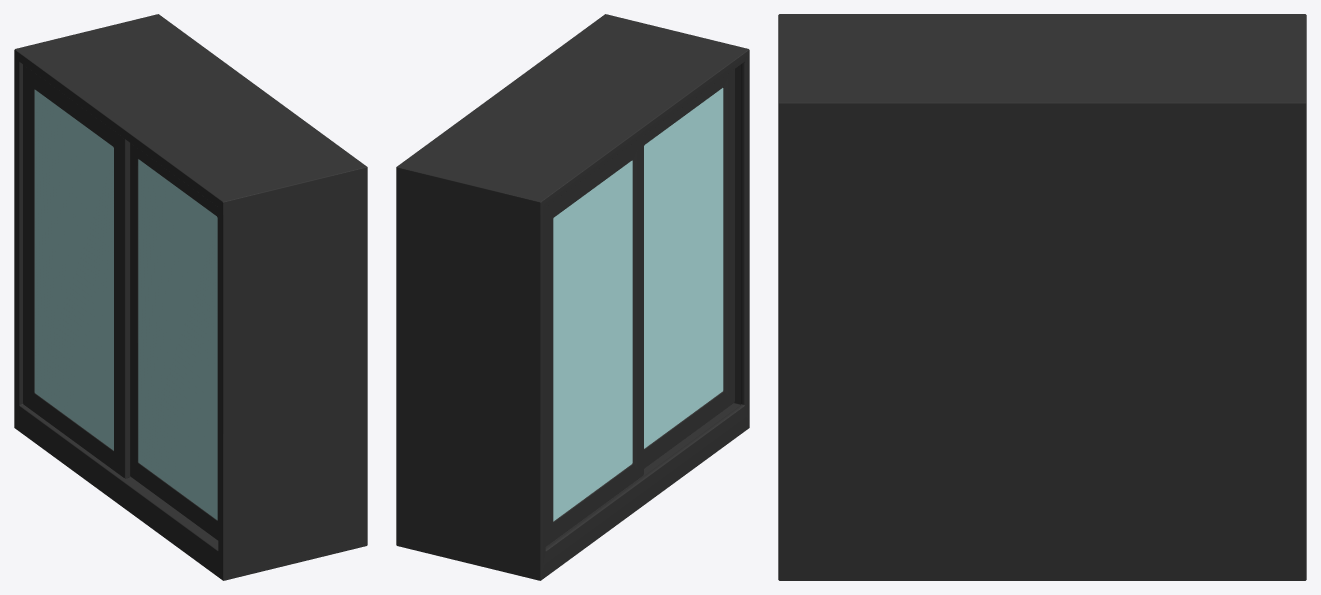
File: SM_Shelf_100x100_Glass.fbx
The picture shows the model from 3 angles, left to right: view 1: azimuth 30°, elevation 25°; view 2: azimuth 150°, elevation 25°; view 3: azimuth 270°, elevation 25°; orthographic projection. The views are drawn at different scales.
Parts seen in each view (by area): view 1: SM_Shelf_100x100_Glass_LOD0; view 2: SM_Shelf_100x100_Glass_LOD0; view 3: SM_Shelf_100x100_Glass_LOD0.
Part boxes in pixels (x1,y1,x2,y2): SM_Shelf_100x100_Glass_LOD0: (14,14,367,580); SM_Shelf_100x100_Glass_LOD0: (396,14,749,580); SM_Shelf_100x100_Glass_LOD0: (778,14,1306,580).
Size of the model in its own units: 40 by 100 by 100.
